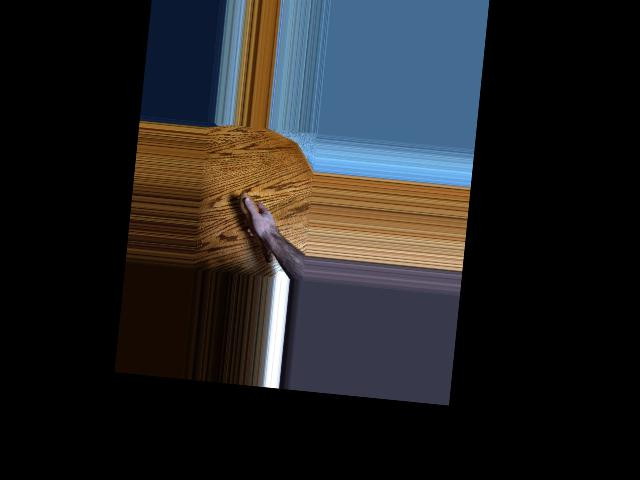sweet_potato: (231, 190, 280, 275)
